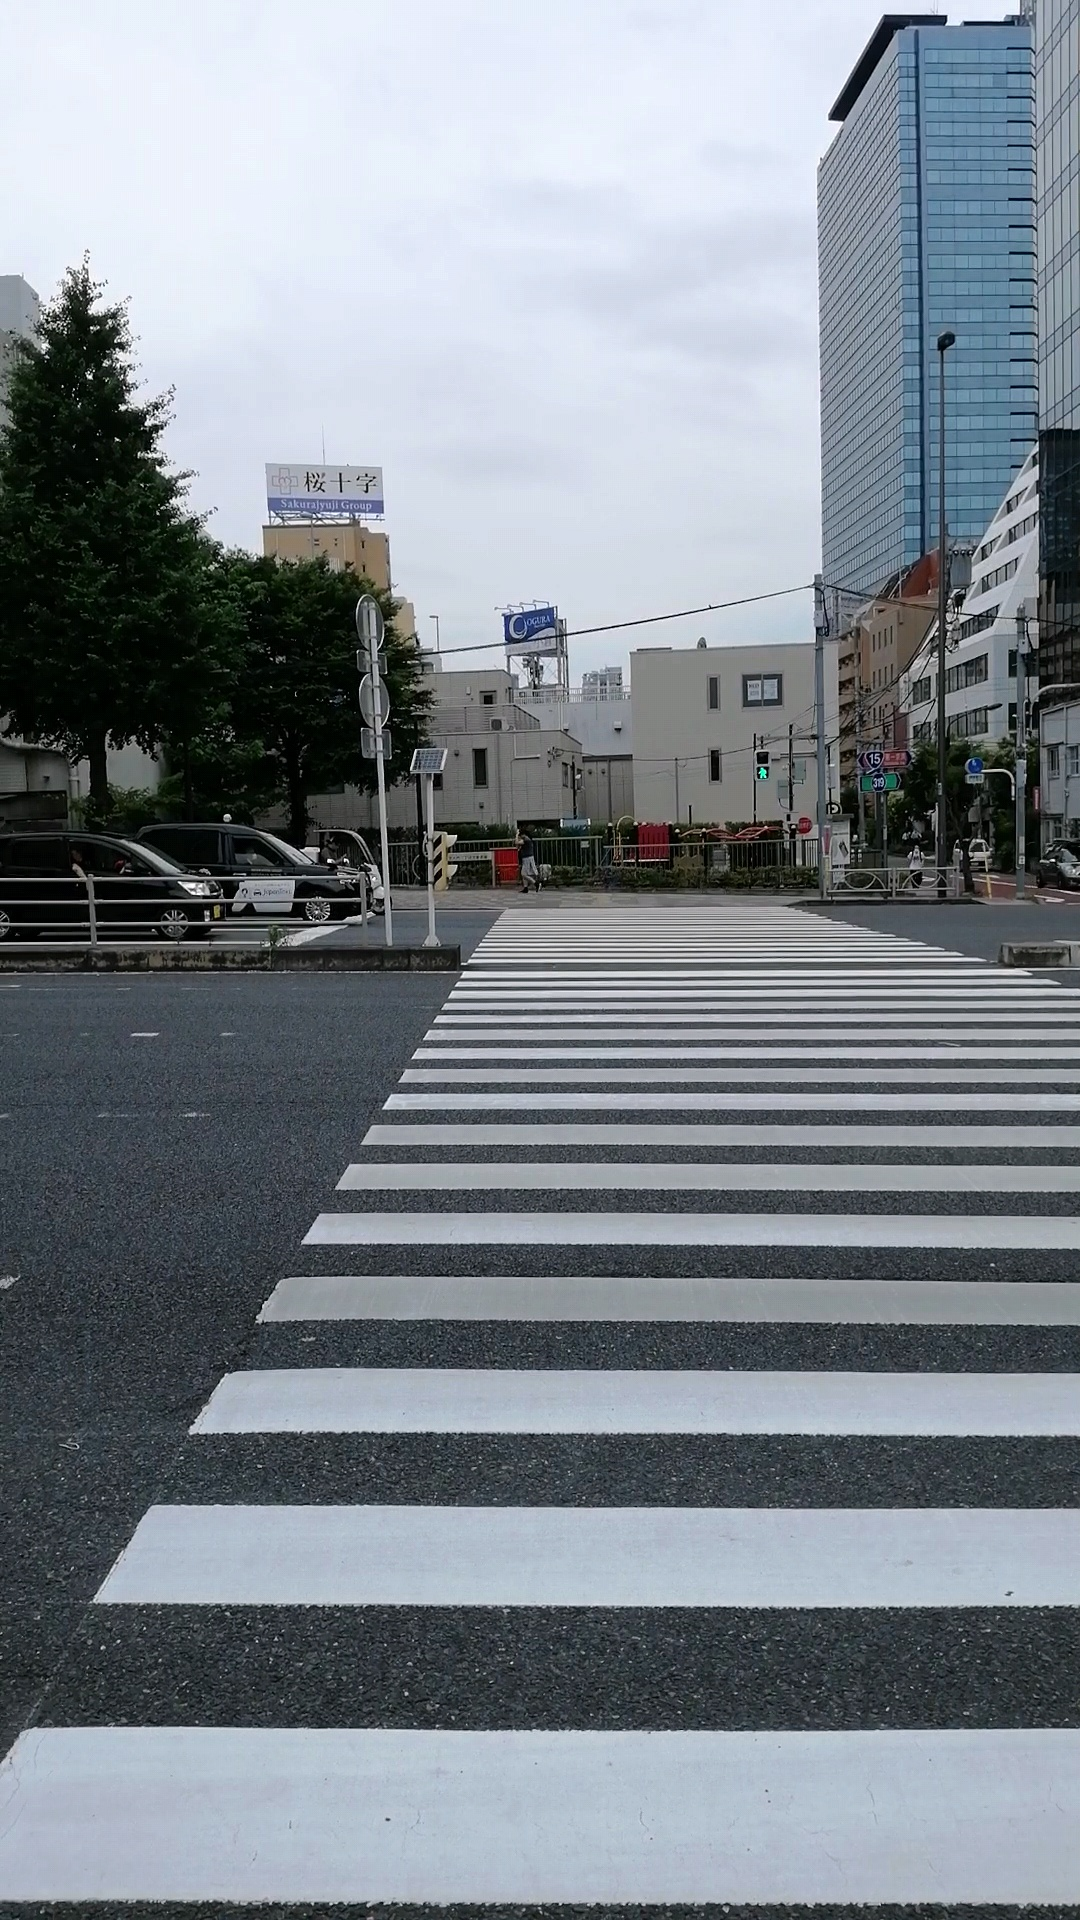green: (753, 748, 771, 782)
